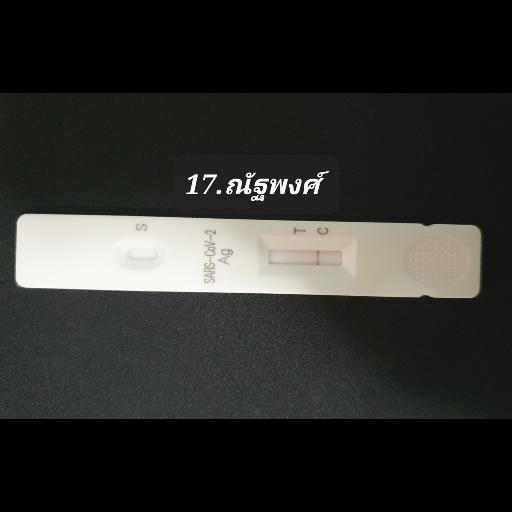Neg: (14, 212, 482, 300)
